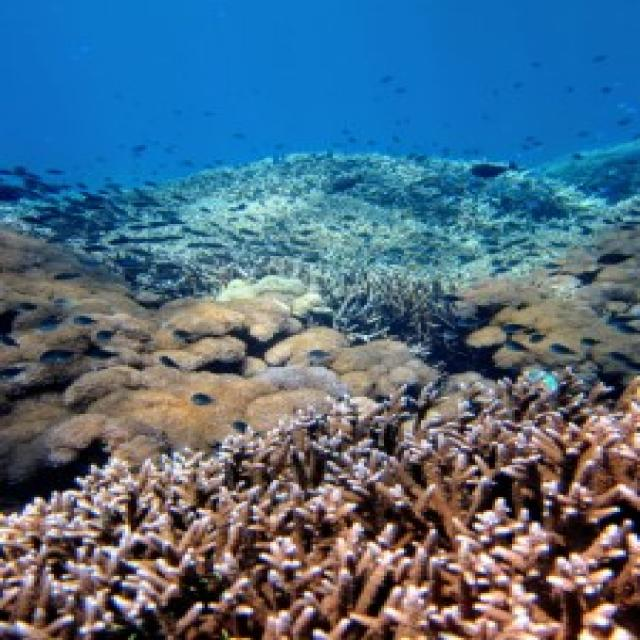Bleached: (98, 155, 604, 330)
Healthy: (1, 372, 638, 639), (1, 368, 348, 481), (177, 259, 450, 351), (1, 225, 163, 369), (462, 276, 638, 376), (140, 275, 300, 377), (317, 323, 446, 399), (559, 223, 638, 306)
